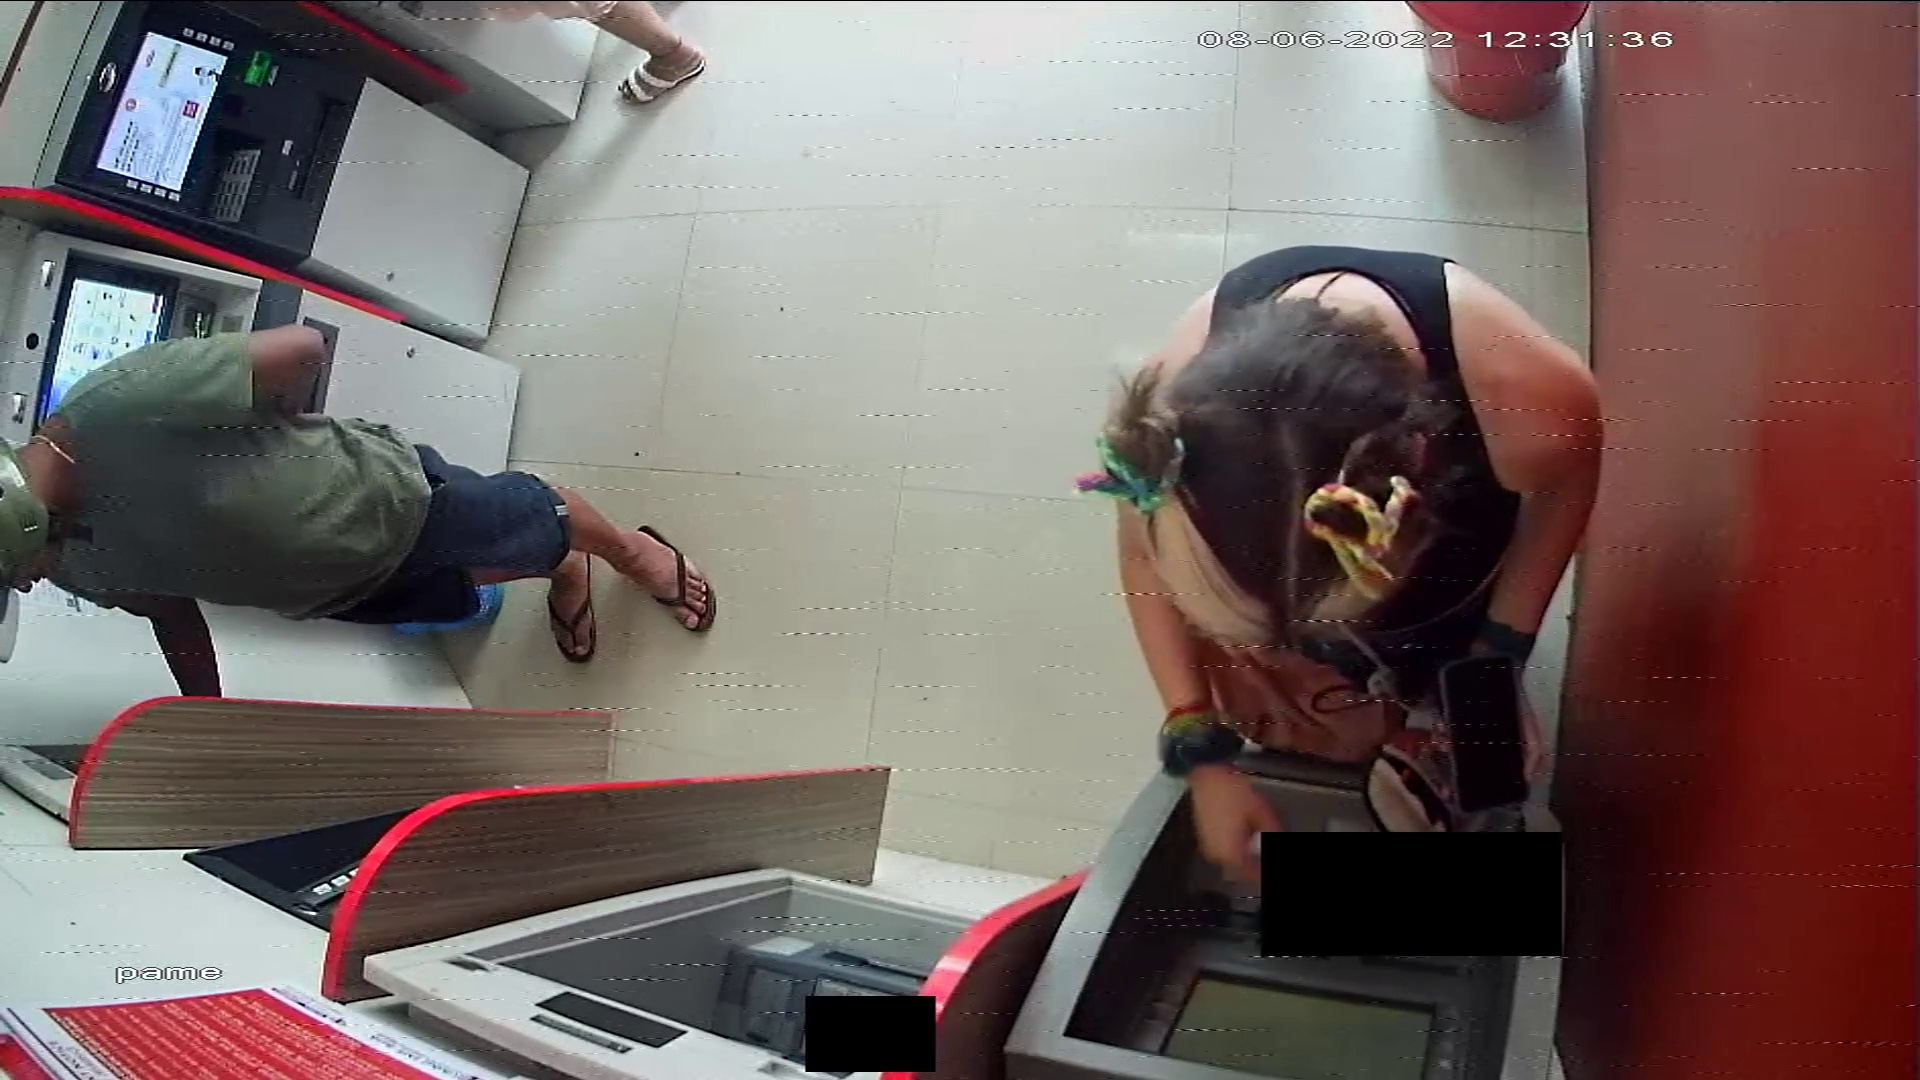helmet: (1, 447, 62, 667)
person: (1114, 244, 1607, 894), (1, 322, 719, 701)
phone: (1441, 660, 1532, 812)
